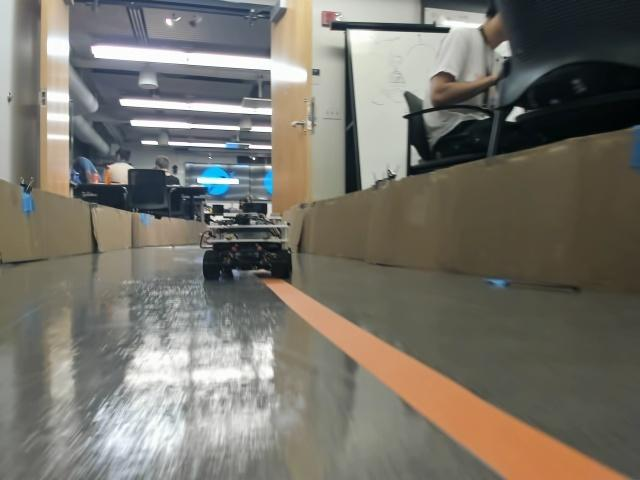Car: (202, 201, 291, 277)
